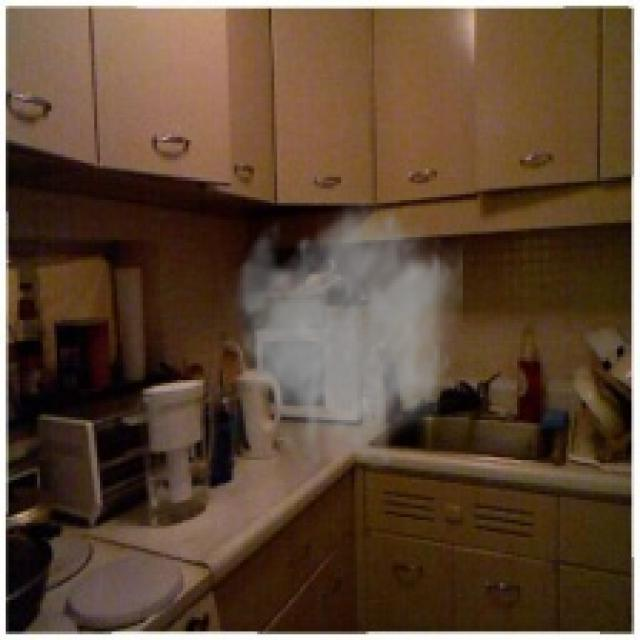Smoke: (217, 194, 463, 477)
